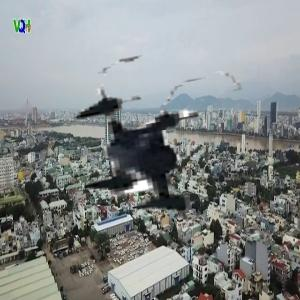drone: (51, 41, 273, 263)
